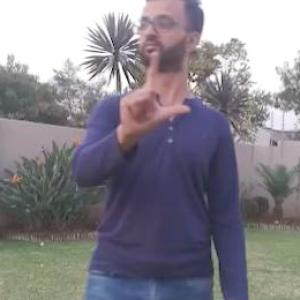land_hand: (115, 44, 195, 136)
